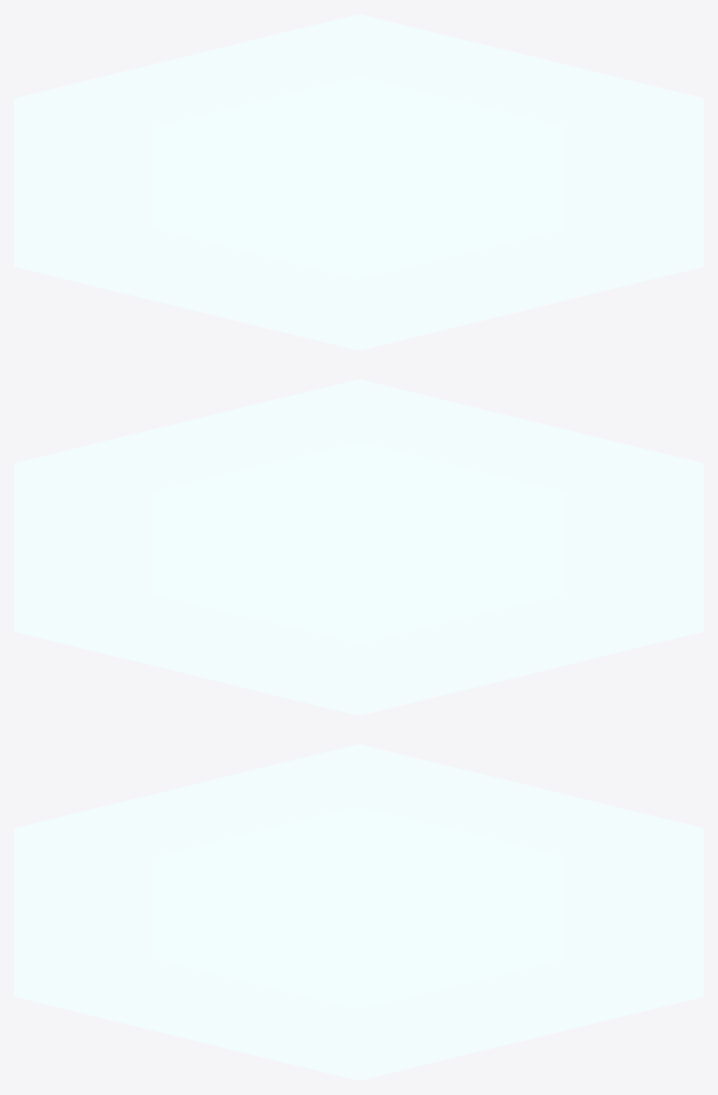
The model's file is xy_water_surface.glb.
3 views of the same model, one above another, from view 1: azimuth 30°, elevation 25°; view 2: azimuth 150°, elevation 25°; view 3: azimuth 270°, elevation 25° (orthographic).
Visible parts, largest first — view 1: WaterSurface; view 2: WaterSurface; view 3: WaterSurface.
Boxes of the visible parts, left/top/right/bottom form: WaterSurface: left=14, top=14, right=703, bottom=350; WaterSurface: left=14, top=379, right=703, bottom=715; WaterSurface: left=14, top=744, right=703, bottom=1080.
Bounding box in the file's own units: 8 × 0.05 × 6.93.
